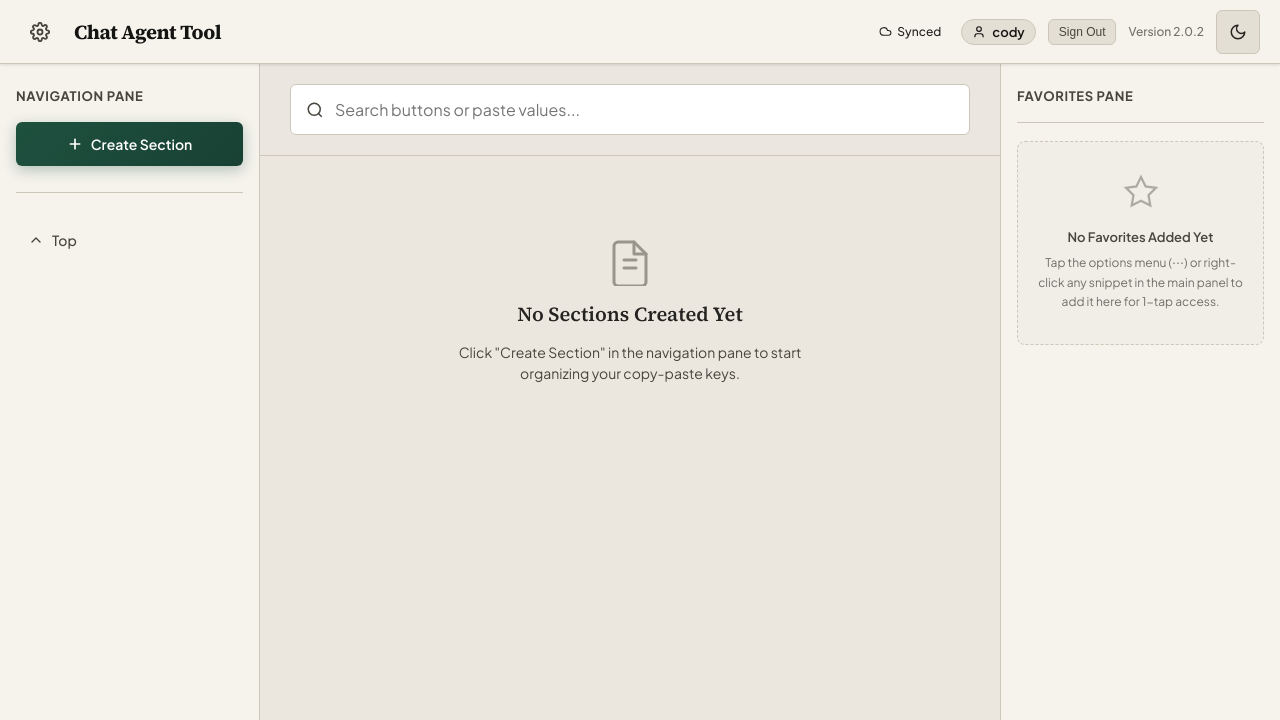
Test case: Chat Agent Tool - Integration Tests › creates a new section successfully
// Click "Create Section" button in sidebar
Click the button "Create Section" at [130, 144], box x1=16 y1=122 x2=243 y2=166
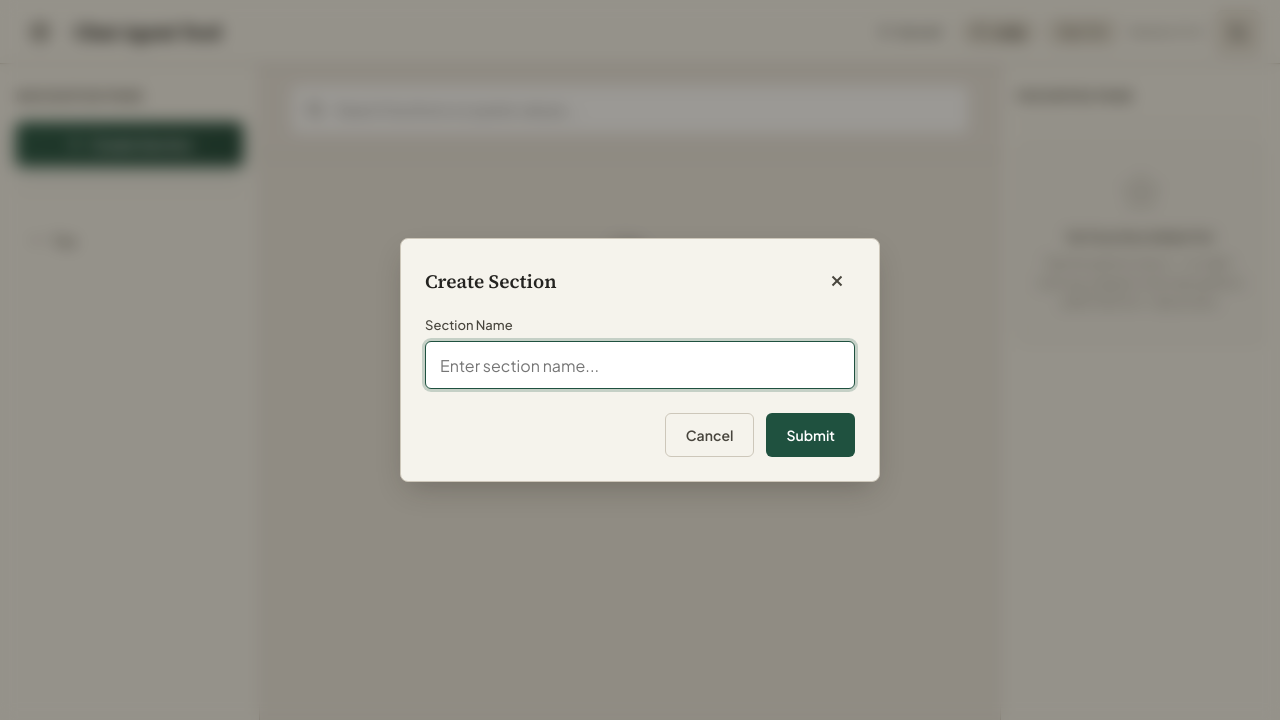
// Verify modal is open and fill out form
Type "Billing Support" into the field labelled "Section Name" at [640, 365], box x1=425 y1=341 x2=855 y2=389
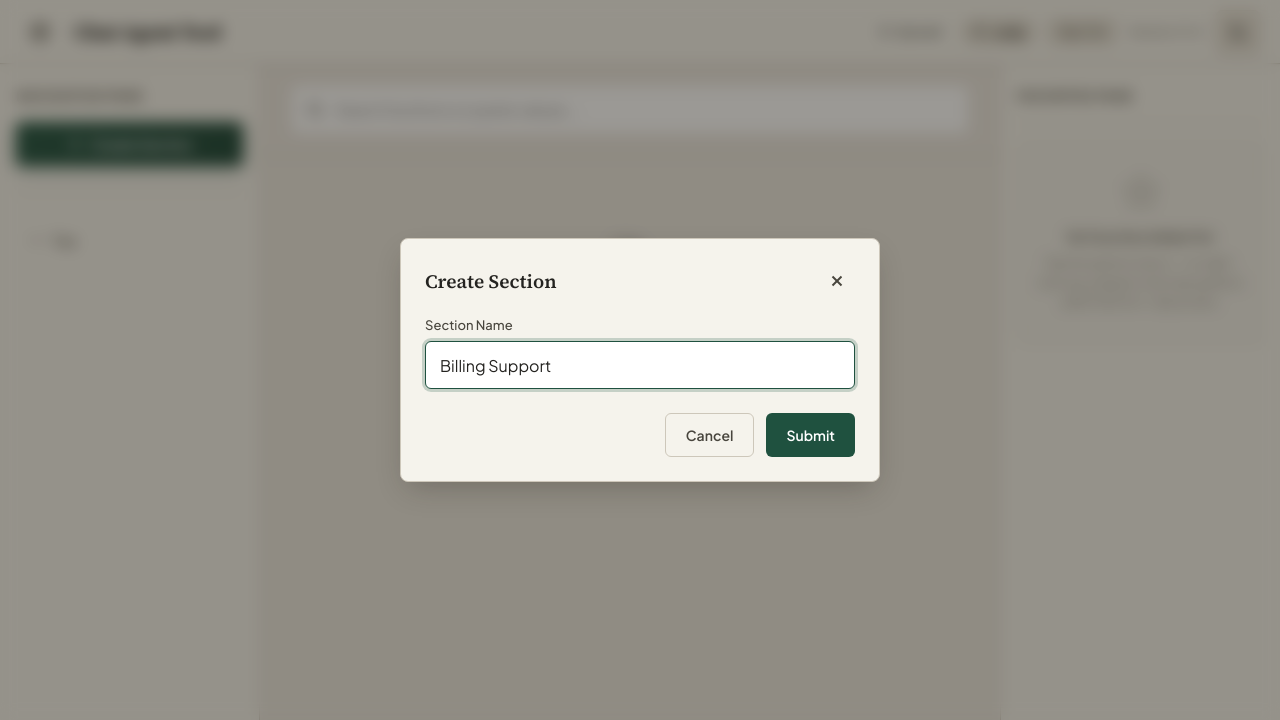
// Submit the form
Click the button "Submit" at [811, 435], box x1=766 y1=413 x2=855 y2=457
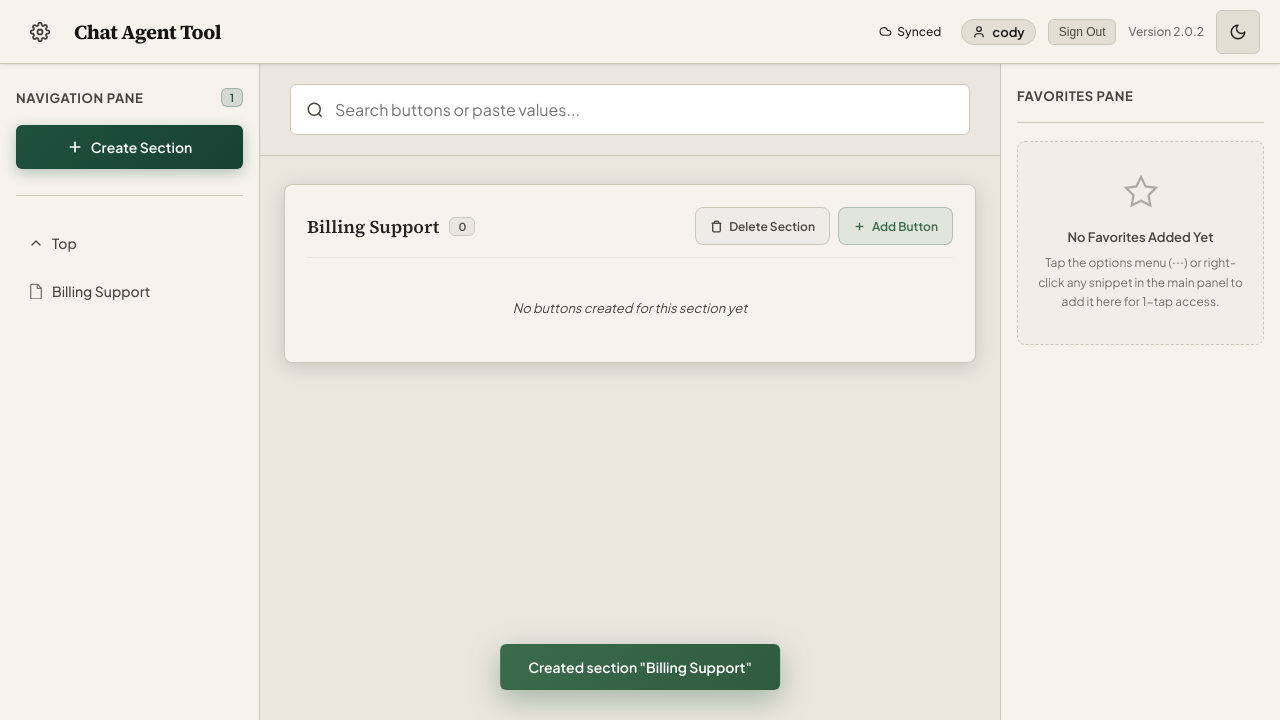
Check: the heading "Billing Support" is shown, box x1=307 y1=214 x2=439 y2=238
Check: the link "Billing Support" is shown, box x1=28 y1=282 x2=150 y2=300
